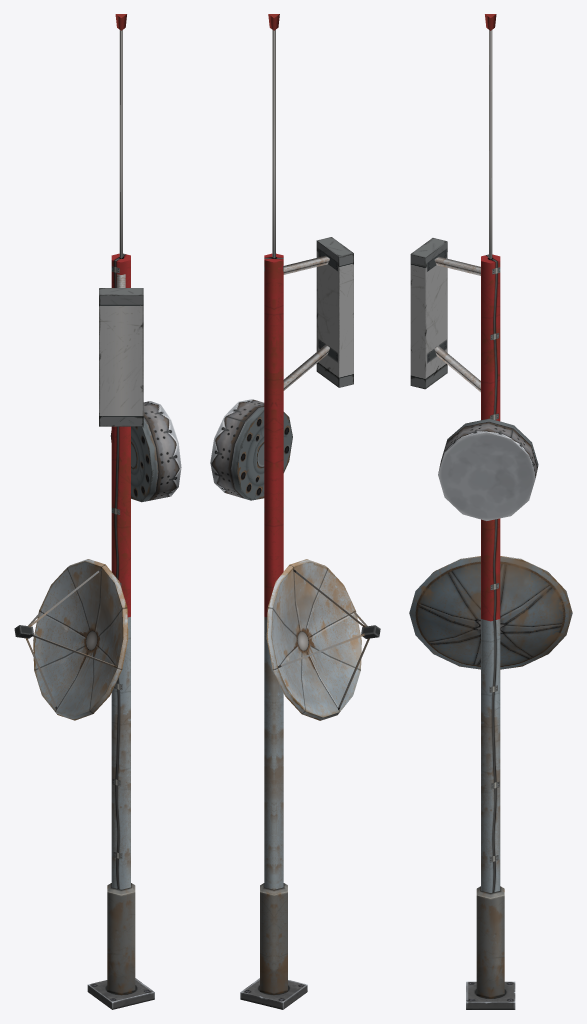
The model's file is antenna06.FBX.
The picture shows the model from 3 angles, left to right: view 1: azimuth 30°, elevation 25°; view 2: azimuth 150°, elevation 25°; view 3: azimuth 270°, elevation 25°; orthographic projection.
Visible parts, largest first — view 1: antenna06, antenna06_part3, antenna06_part1, antenna06_part2; view 2: antenna06, antenna06_part3, antenna06_part1, antenna06_part2; view 3: antenna06, antenna06_part3, antenna06_part2, antenna06_part1.
Part boxes in pixels (x1,y1,x2,y2): antenna06: [87, 14, 154, 1009]; antenna06_part3: [14, 559, 128, 720]; antenna06_part1: [99, 274, 143, 426]; antenna06_part2: [110, 401, 181, 502]; antenna06: [240, 14, 307, 1009]; antenna06_part3: [266, 559, 380, 720]; antenna06_part1: [283, 237, 353, 390]; antenna06_part2: [210, 399, 292, 500]; antenna06: [466, 14, 515, 1009]; antenna06_part3: [409, 556, 572, 669]; antenna06_part2: [438, 418, 538, 520]; antenna06_part1: [410, 238, 480, 392].
Bounding box in the file's own units: 208 × 1328 × 200.
